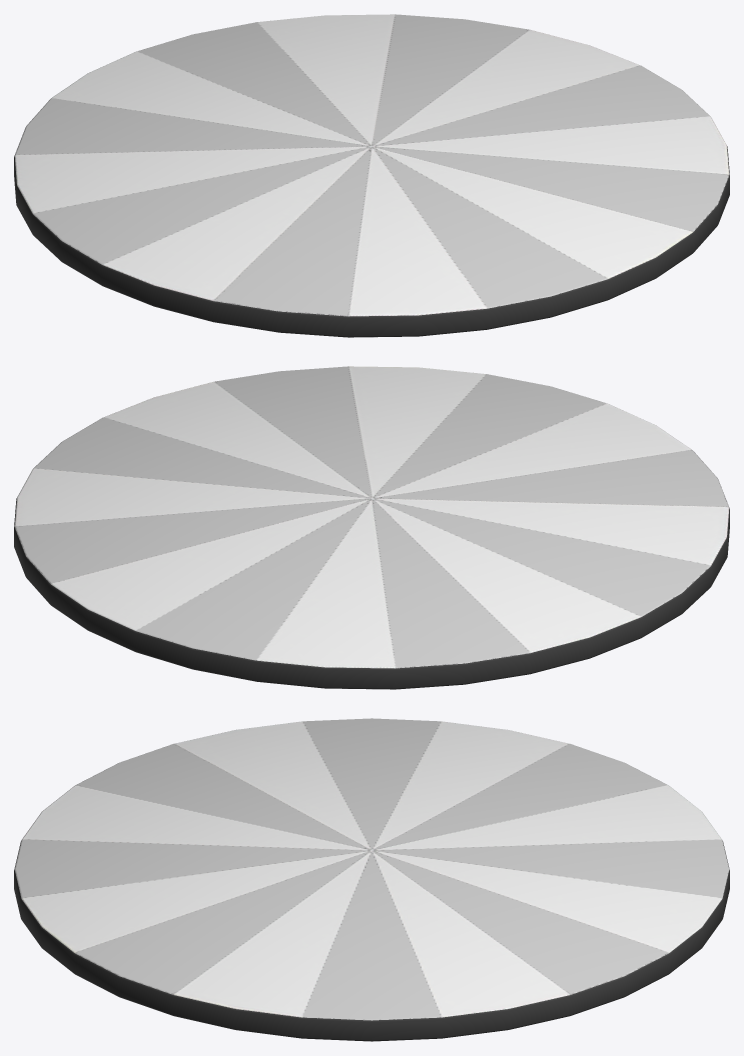
The model's file is platform.circle.fbx.
The picture shows the model from 3 angles, top to bottom: view 1: azimuth 30°, elevation 25°; view 2: azimuth 150°, elevation 25°; view 3: azimuth 270°, elevation 25°; orthographic projection.
Parts seen in each view (by area): view 1: circle; view 2: circle; view 3: circle.
Part boxes in pixels (x1,y1,x2,y2): circle: [14, 14, 729, 337]; circle: [14, 366, 729, 689]; circle: [14, 718, 729, 1041].
Size of the model in its own units: 1321 by 82.71 by 1321.
